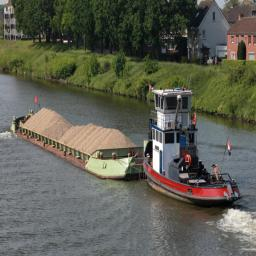tugboat: (142, 81, 245, 213)
